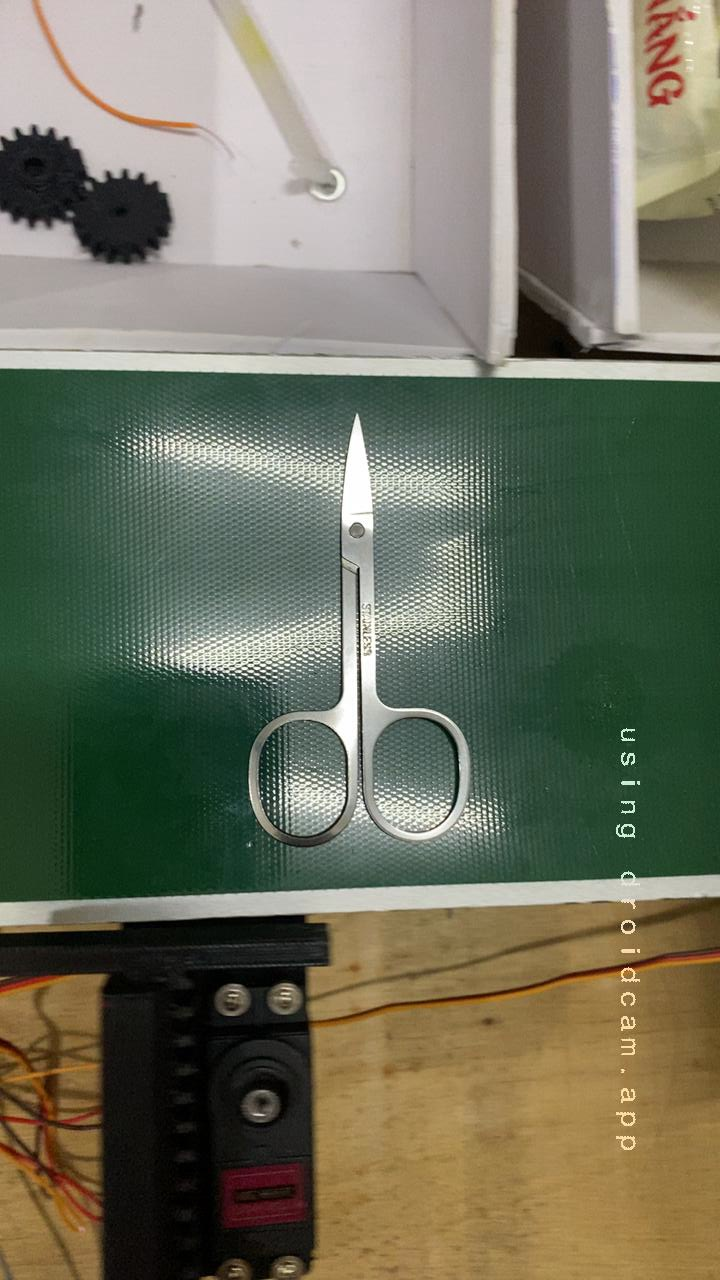scissor: (213, 444, 499, 870)
